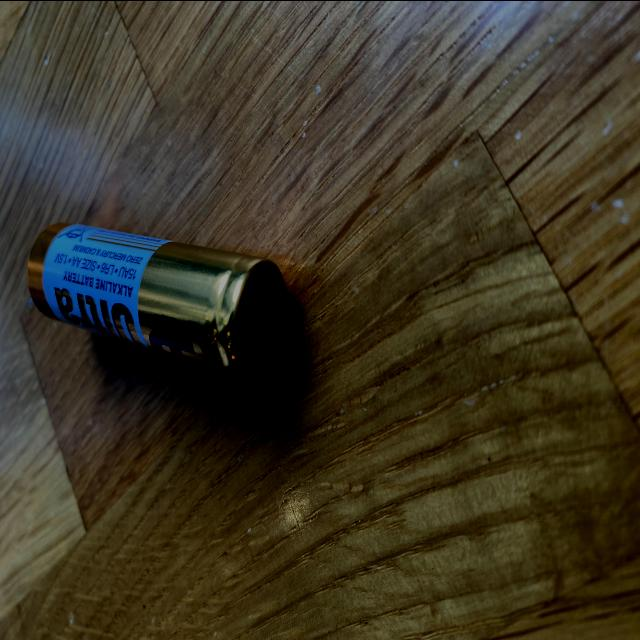AA: (23, 215, 296, 385)
